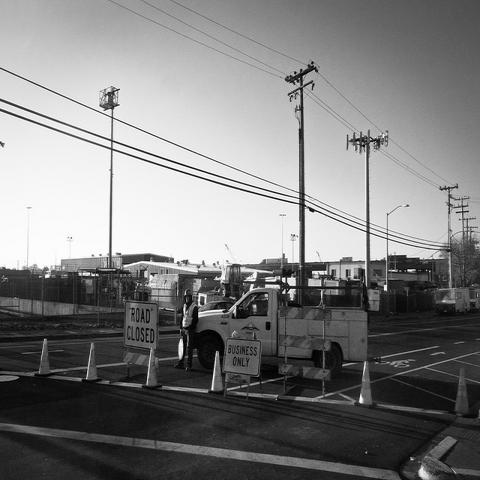truck: (195, 288, 368, 379), (435, 287, 471, 317)
